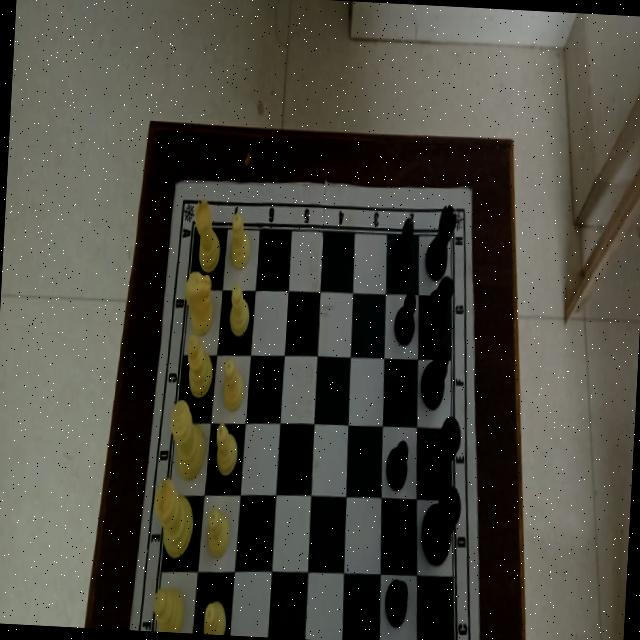corners: (462, 179, 477, 205), (172, 173, 185, 196)
